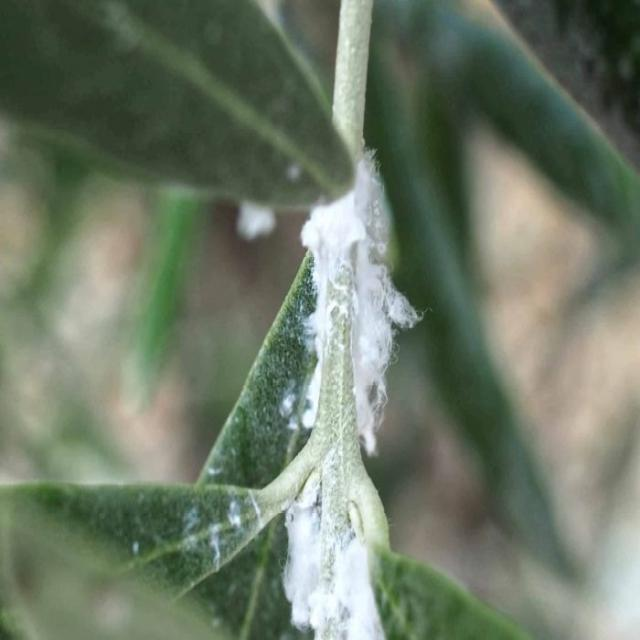Psyllid: (298, 150, 422, 453), (282, 476, 384, 638)
